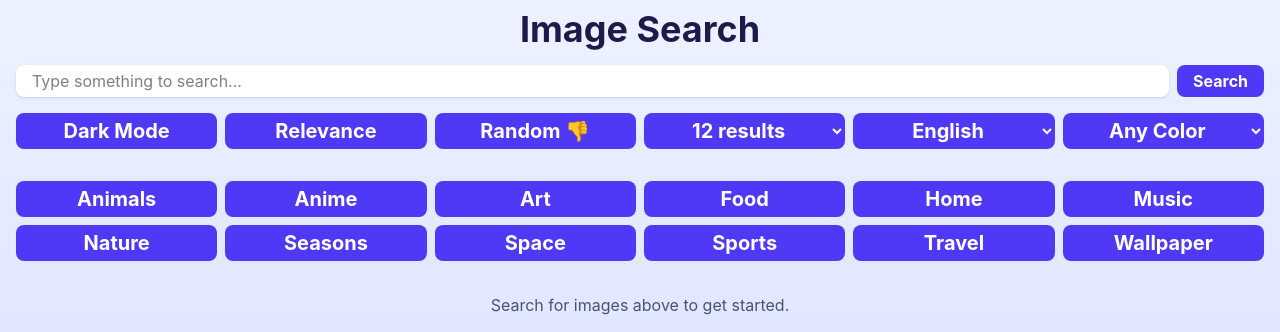
Home page integration › shows 'Relevance' label after toggling sort order twice
Click the button "Relevance". click: x=326, y=131
box: [225,113,427,149]
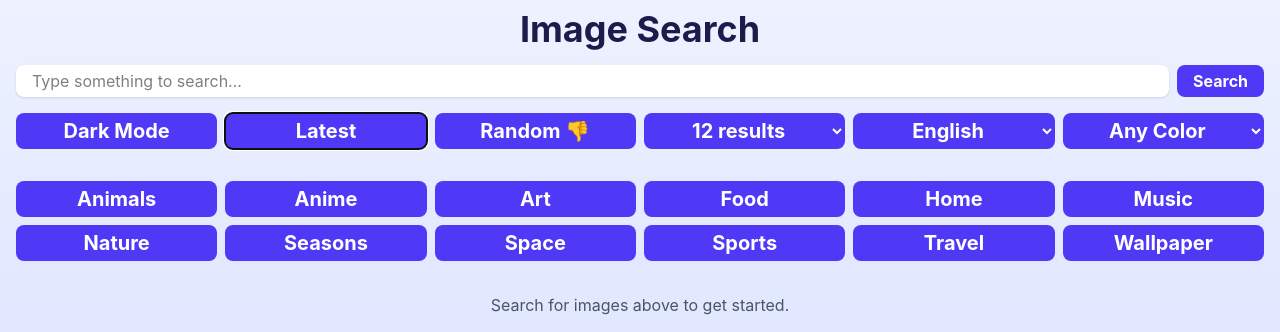
Check: the button "Latest" is shown
Click the button "Latest". click: x=326, y=131
box: [225,113,427,149]
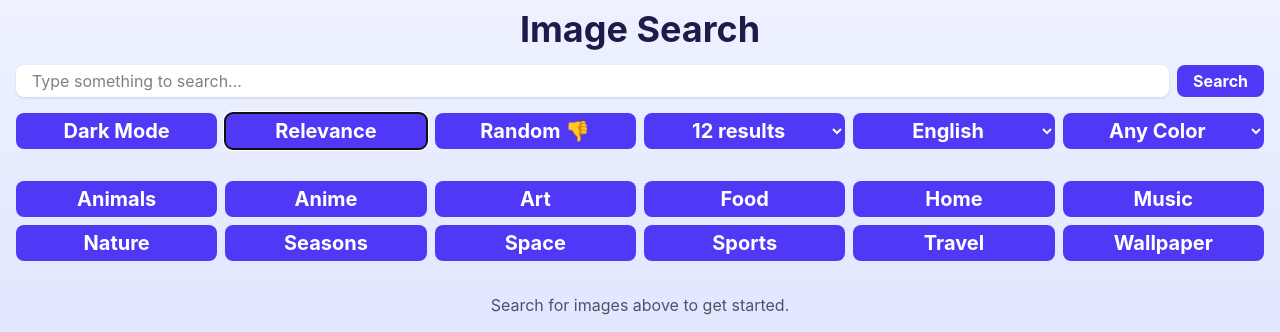
Check: the button "Relevance" is shown, box [225,113,427,149]
